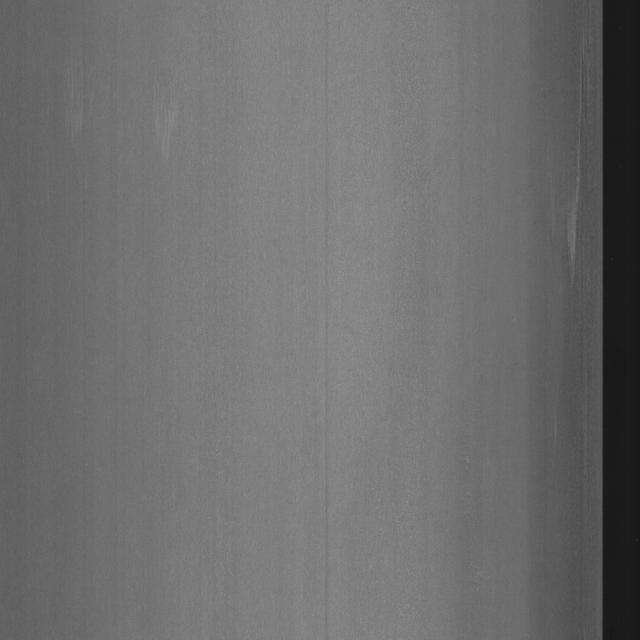inclusion: (538, 75, 595, 304)
